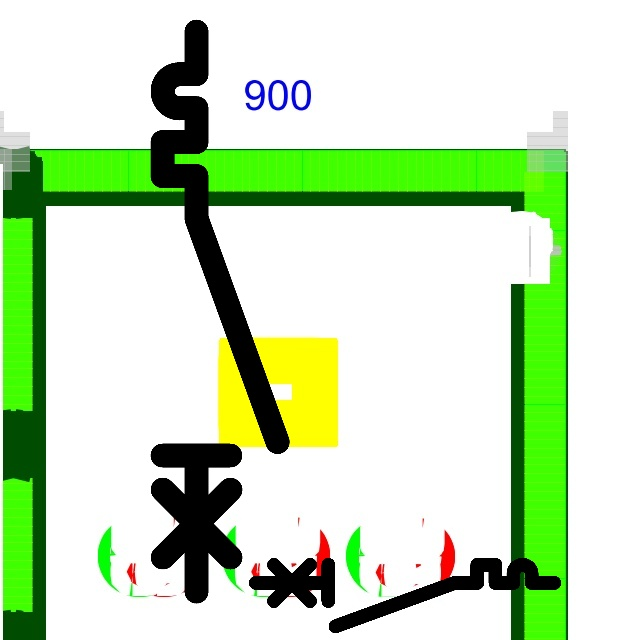interruptor_termomagnetico: (148, 17, 292, 606), (248, 557, 562, 634)
